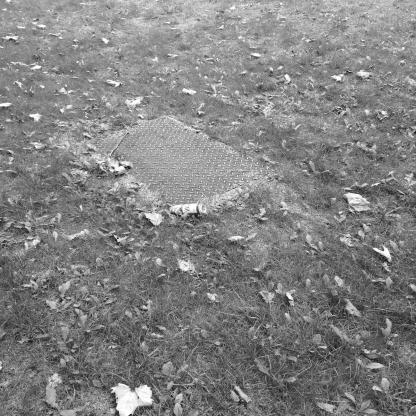glass: (157, 200, 212, 221)
